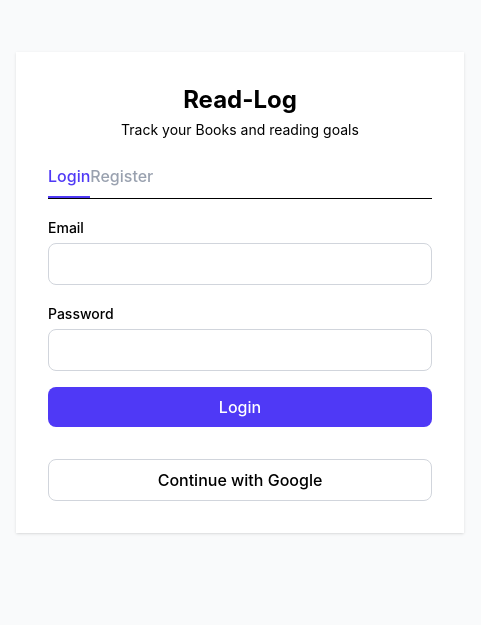
Test: Login page › shows an error when the email is already used
The width and height of the screenshot is (481, 625).
Click the tab "Register" at (122, 180), box [90,164,153,196]
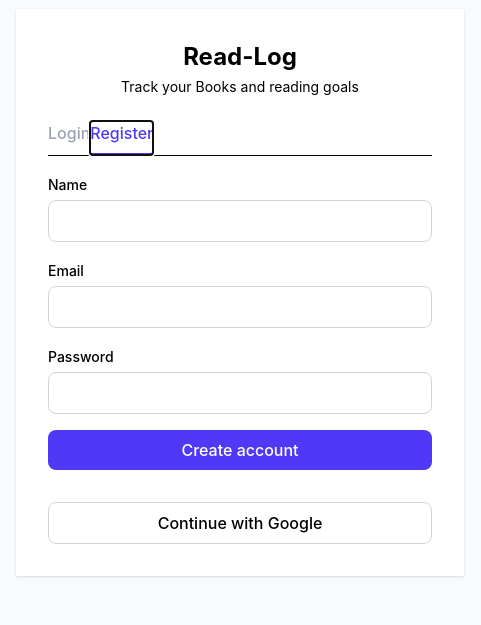
Type "Ada Lovelace" into the field labelled "Name" at (240, 220), box [48,200,432,242]
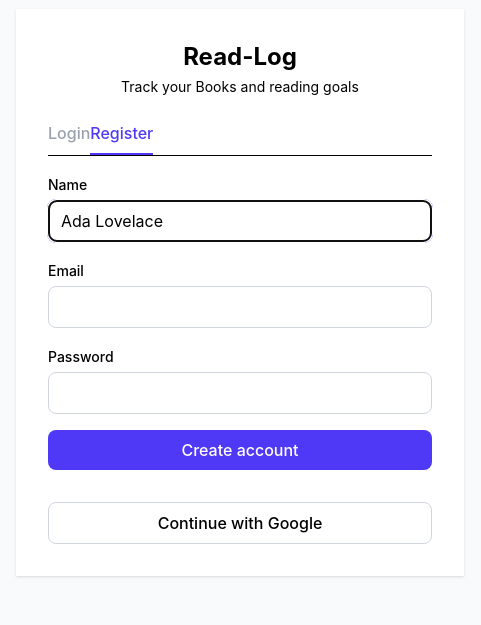
Type "ada@example.com" into the field labelled "Email" at (240, 306), box [48,286,432,328]
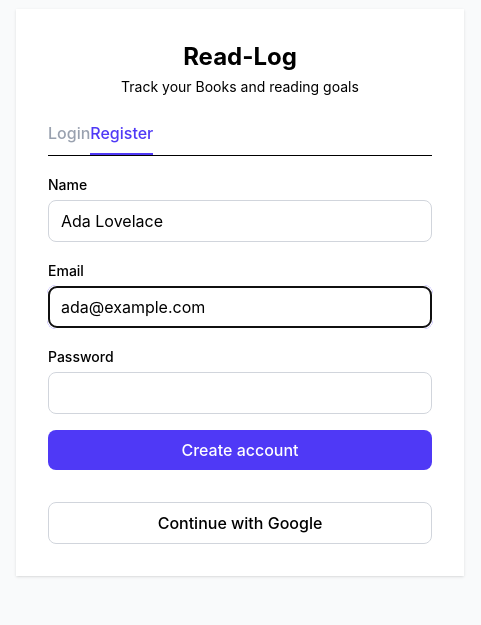
Type "secret123" into the password field labelled "Password" at (240, 392), box [48,372,432,414]
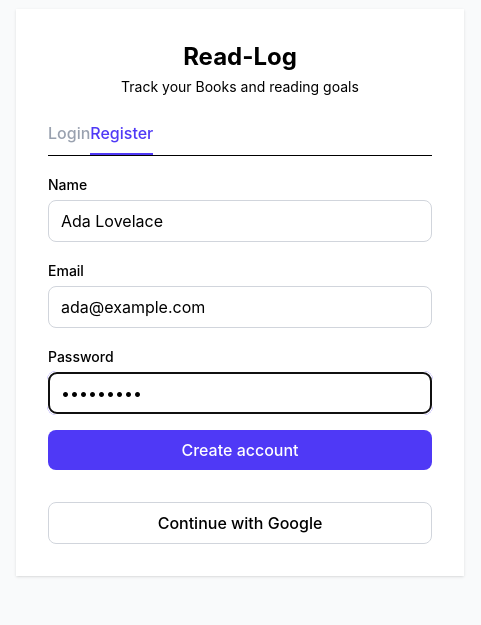
Click the button "Create account" at (240, 450), box [48,430,432,470]
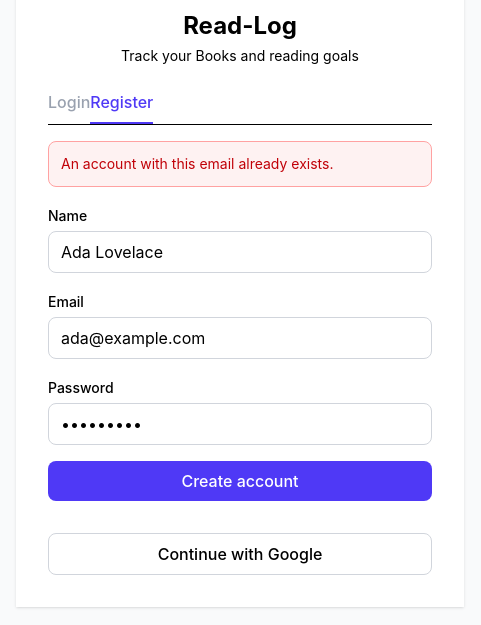
Expected: the text "An account with this email already exists." is shown, [48,140,432,186]
